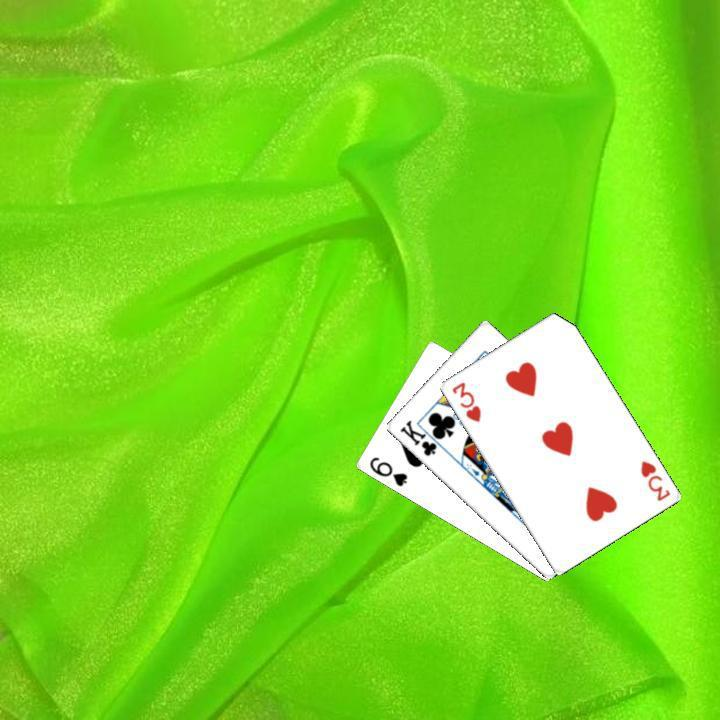3: (447, 377, 483, 424), (636, 456, 672, 503)
6: (365, 452, 409, 489)
K: (395, 415, 447, 458)
